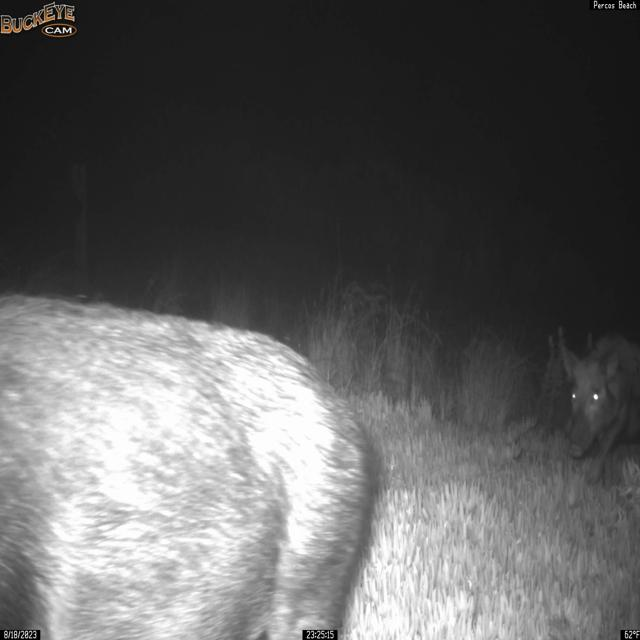pig: (0, 291, 381, 640)
